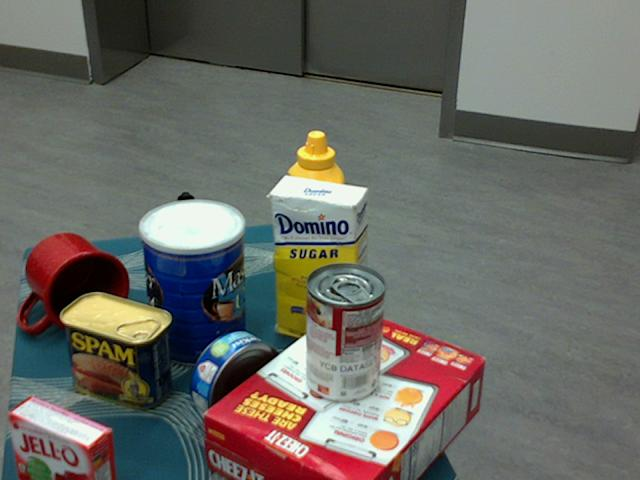cracker_box: (203, 305, 485, 479)
gelatin_box: (7, 393, 114, 479)
large_marker: (177, 191, 197, 289)
master_chef_can: (138, 199, 245, 367)
mug: (21, 232, 129, 332)
mustard_bottle: (285, 130, 342, 306)
potted_meat_can: (59, 290, 171, 408)
sugar_box: (270, 174, 367, 352)
tomato_soup_can: (303, 264, 385, 404)
tuna_fish_can: (189, 331, 282, 428)
